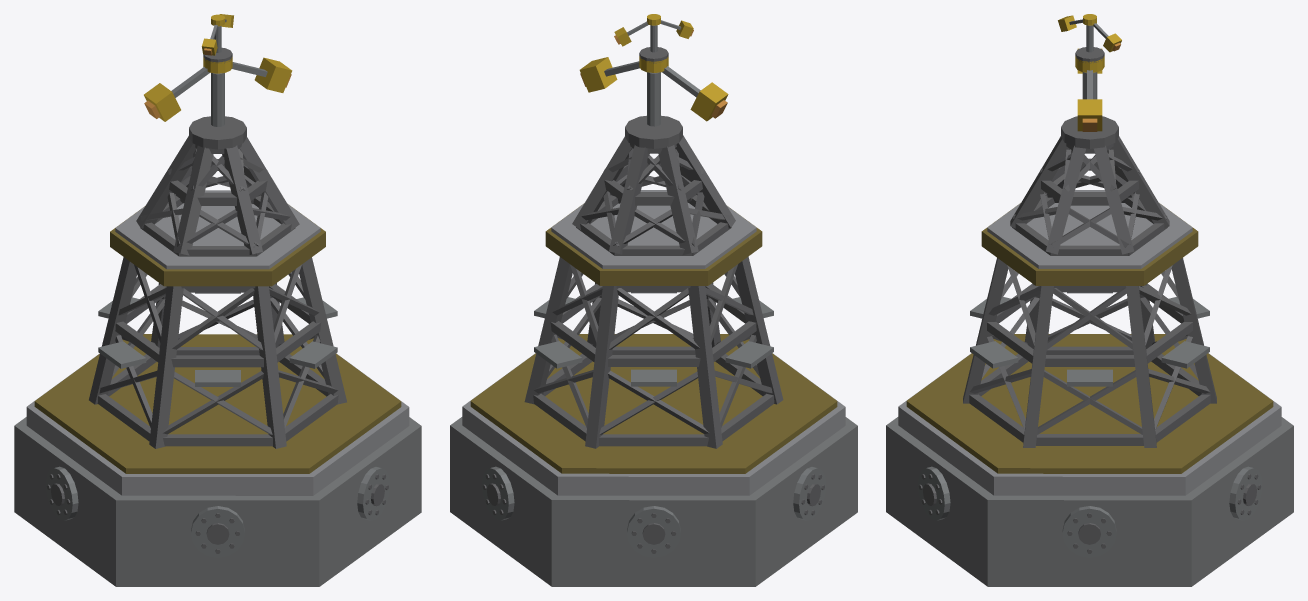
The model's file is harvester_s2_ruin.glb.
The picture shows the model from 3 angles, left to right: view 1: azimuth 30°, elevation 25°; view 2: azimuth 150°, elevation 25°; view 3: azimuth 270°, elevation 25°; orthographic projection.
Parts seen in each view (by area): view 1: H_Base, H_Trim, H_Capstone, T_MidRim, T_MidPlatform, T_Low_Post_3, T_Low_Post_4, T_Low_Post_2, T_Low_Post_5, T_Up_Post_3, H_FlangeSW_disc, T_Up_Post_4 (+25 smaller); view 2: H_Base, H_Trim, H_Capstone, T_MidRim, T_MidPlatform, T_Low_Post_2, T_Low_Post_1, T_Low_Post_3, T_Low_Post_0, T_Up_Post_2, H_FlangeNW_disc, T_Up_Post_1 (+25 smaller); view 3: H_Base, H_Trim, H_Capstone, T_MidRim, T_MidPlatform, T_Low_Post_5, T_Low_Post_0, H_FlangeE_disc, T_Low_Post_1, T_Low_Post_4, T_Up_Post_0, T_Up_Post_5 (+21 smaller).
Boxes of the visible parts, x1=… form: H_Base: x1=14, y1=417, x2=421, y2=586; H_Trim: x1=34, y1=334, x2=401, y2=473; H_Capstone: x1=26, y1=353, x2=409, y2=495; T_MidRim: x1=115, y1=190, x2=320, y2=269; T_MidPlatform: x1=110, y1=206, x2=325, y2=286; T_Low_Post_3: x1=149, y1=286, x2=183, y2=448; T_Low_Post_4: x1=253, y1=286, x2=286, y2=448; T_Low_Post_2: x1=89, y1=257, x2=136, y2=404; T_Low_Post_5: x1=299, y1=257, x2=346, y2=404; T_Up_Post_3: x1=173, y1=145, x2=213, y2=255; H_FlangeSW_disc: x1=191, y1=506, x2=244, y2=557; T_Up_Post_4: x1=222, y1=145, x2=262, y2=254; H_Base: x1=450, y1=417, x2=857, y2=586; H_Trim: x1=470, y1=334, x2=837, y2=473; H_Capstone: x1=462, y1=353, x2=845, y2=495; T_MidRim: x1=551, y1=190, x2=756, y2=268; T_MidPlatform: x1=545, y1=205, x2=762, y2=285; T_Low_Post_2: x1=688, y1=286, x2=722, y2=448; T_Low_Post_1: x1=585, y1=286, x2=618, y2=448; T_Low_Post_3: x1=735, y1=256, x2=783, y2=404; T_Low_Post_0: x1=524, y1=257, x2=572, y2=404; T_Up_Post_2: x1=658, y1=145, x2=698, y2=255; H_FlangeNW_disc: x1=627, y1=506, x2=680, y2=557; T_Up_Post_1: x1=609, y1=145, x2=649, y2=254; H_Base: x1=886, y1=417, x2=1293, y2=586; H_Trim: x1=906, y1=334, x2=1273, y2=473; H_Capstone: x1=898, y1=353, x2=1281, y2=495; T_MidRim: x1=987, y1=190, x2=1192, y2=268; T_MidPlatform: x1=981, y1=204, x2=1198, y2=285; T_Low_Post_5: x1=1023, y1=286, x2=1053, y2=447; T_Low_Post_0: x1=1126, y1=286, x2=1156, y2=447; H_FlangeE_disc: x1=1062, y1=506, x2=1116, y2=557; T_Low_Post_1: x1=1171, y1=258, x2=1216, y2=403; T_Low_Post_4: x1=963, y1=258, x2=1008, y2=403; T_Up_Post_0: x1=1094, y1=145, x2=1134, y2=254; T_Up_Post_5: x1=1045, y1=145, x2=1085, y2=254.
Bounding box in the file's own units: 1.79 × 2.63 × 1.96.
